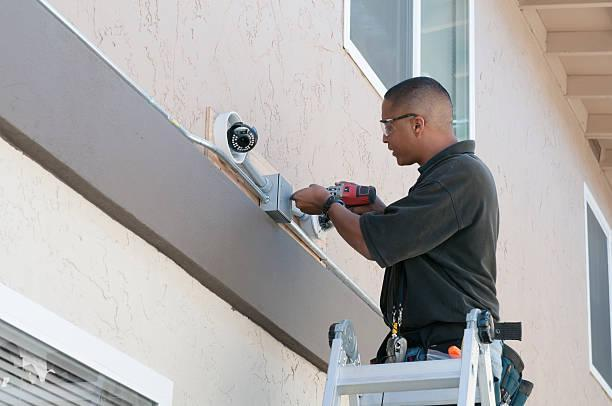camera: (204, 104, 281, 177)
